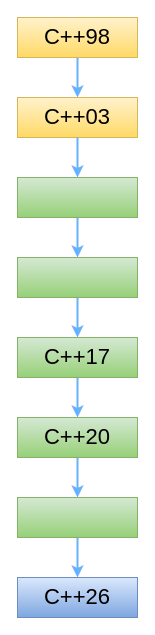
Some shapes in this 155 by 635 pixel diagram are drawn without their labels. The shapes that lost their labels are listed below. From the top down, each one's centre as x and y in pixels, then its label:
At pixel 77 197: "C++11".
At pixel 77 277: "C++14".
At pixel 77 517: "C++23".
